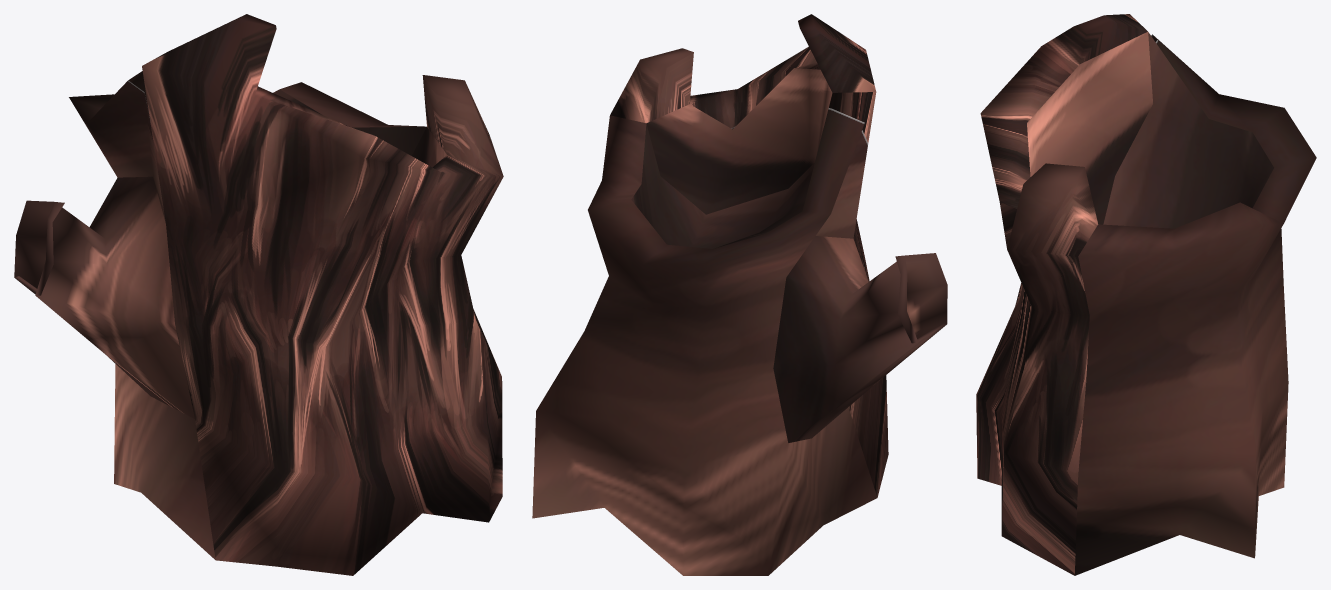
File: kütüksabah.fbx
3 renders of one model, left to right at view 1: azimuth 30°, elevation 25°; view 2: azimuth 150°, elevation 25°; view 3: azimuth 270°, elevation 25°, orthographic. The views are drawn at different scales.
Parts seen in each view (by area): view 1: Cube.001; view 2: Cube.001; view 3: Cube.001.
Boxes of the visible parts, x1=… form: Cube.001: x1=14, y1=14, x2=503, y2=575; Cube.001: x1=532, y1=14, x2=947, y2=575; Cube.001: x1=976, y1=14, x2=1316, y2=575.
Bounding box in the file's own units: 239 × 284 × 193.
Materials: 1 (1 with a texture image).
